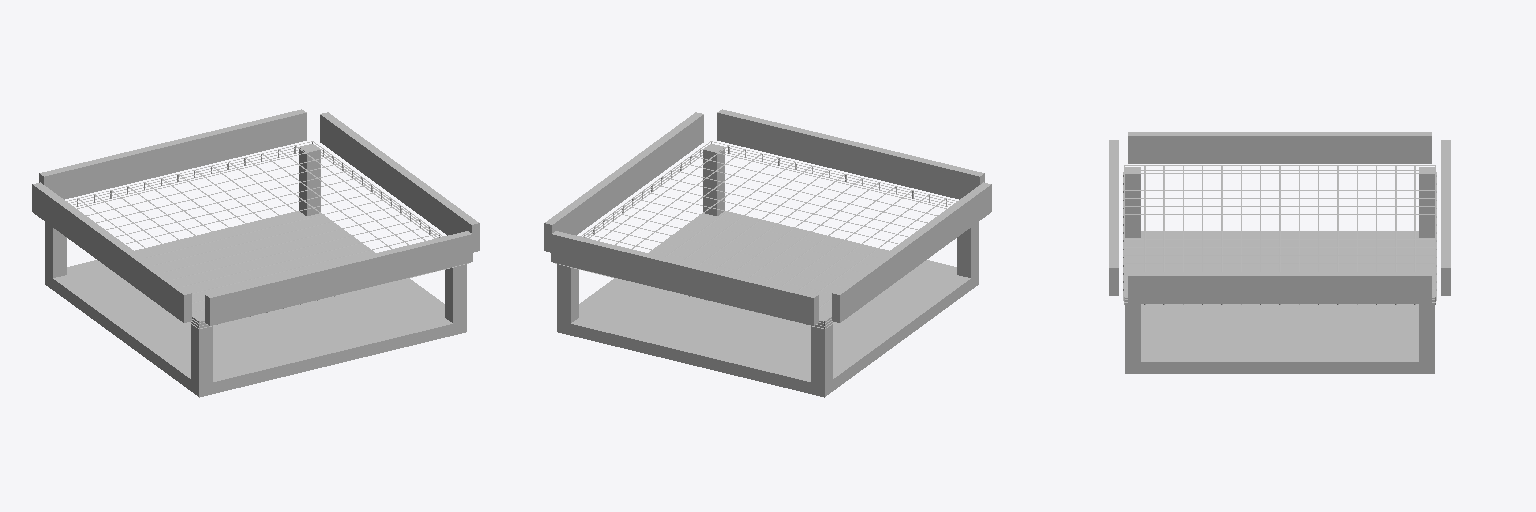
Rendered from Platform.obj.
3 views of the same model, side by side, from view 1: azimuth 30°, elevation 25°; view 2: azimuth 150°, elevation 25°; view 3: azimuth 270°, elevation 25° (orthographic).
Visible parts, largest first — view 1: Cube.002_Cube.009; view 2: Cube.002_Cube.009; view 3: Cube.002_Cube.009.
Part boxes in pixels (bbox=[...]): Cube.002_Cube.009: bbox=[32, 109, 479, 397]; Cube.002_Cube.009: bbox=[544, 109, 991, 397]; Cube.002_Cube.009: bbox=[1109, 132, 1450, 373].
Size of the model in its own units: 22.09 by 7.47 by 22.09.